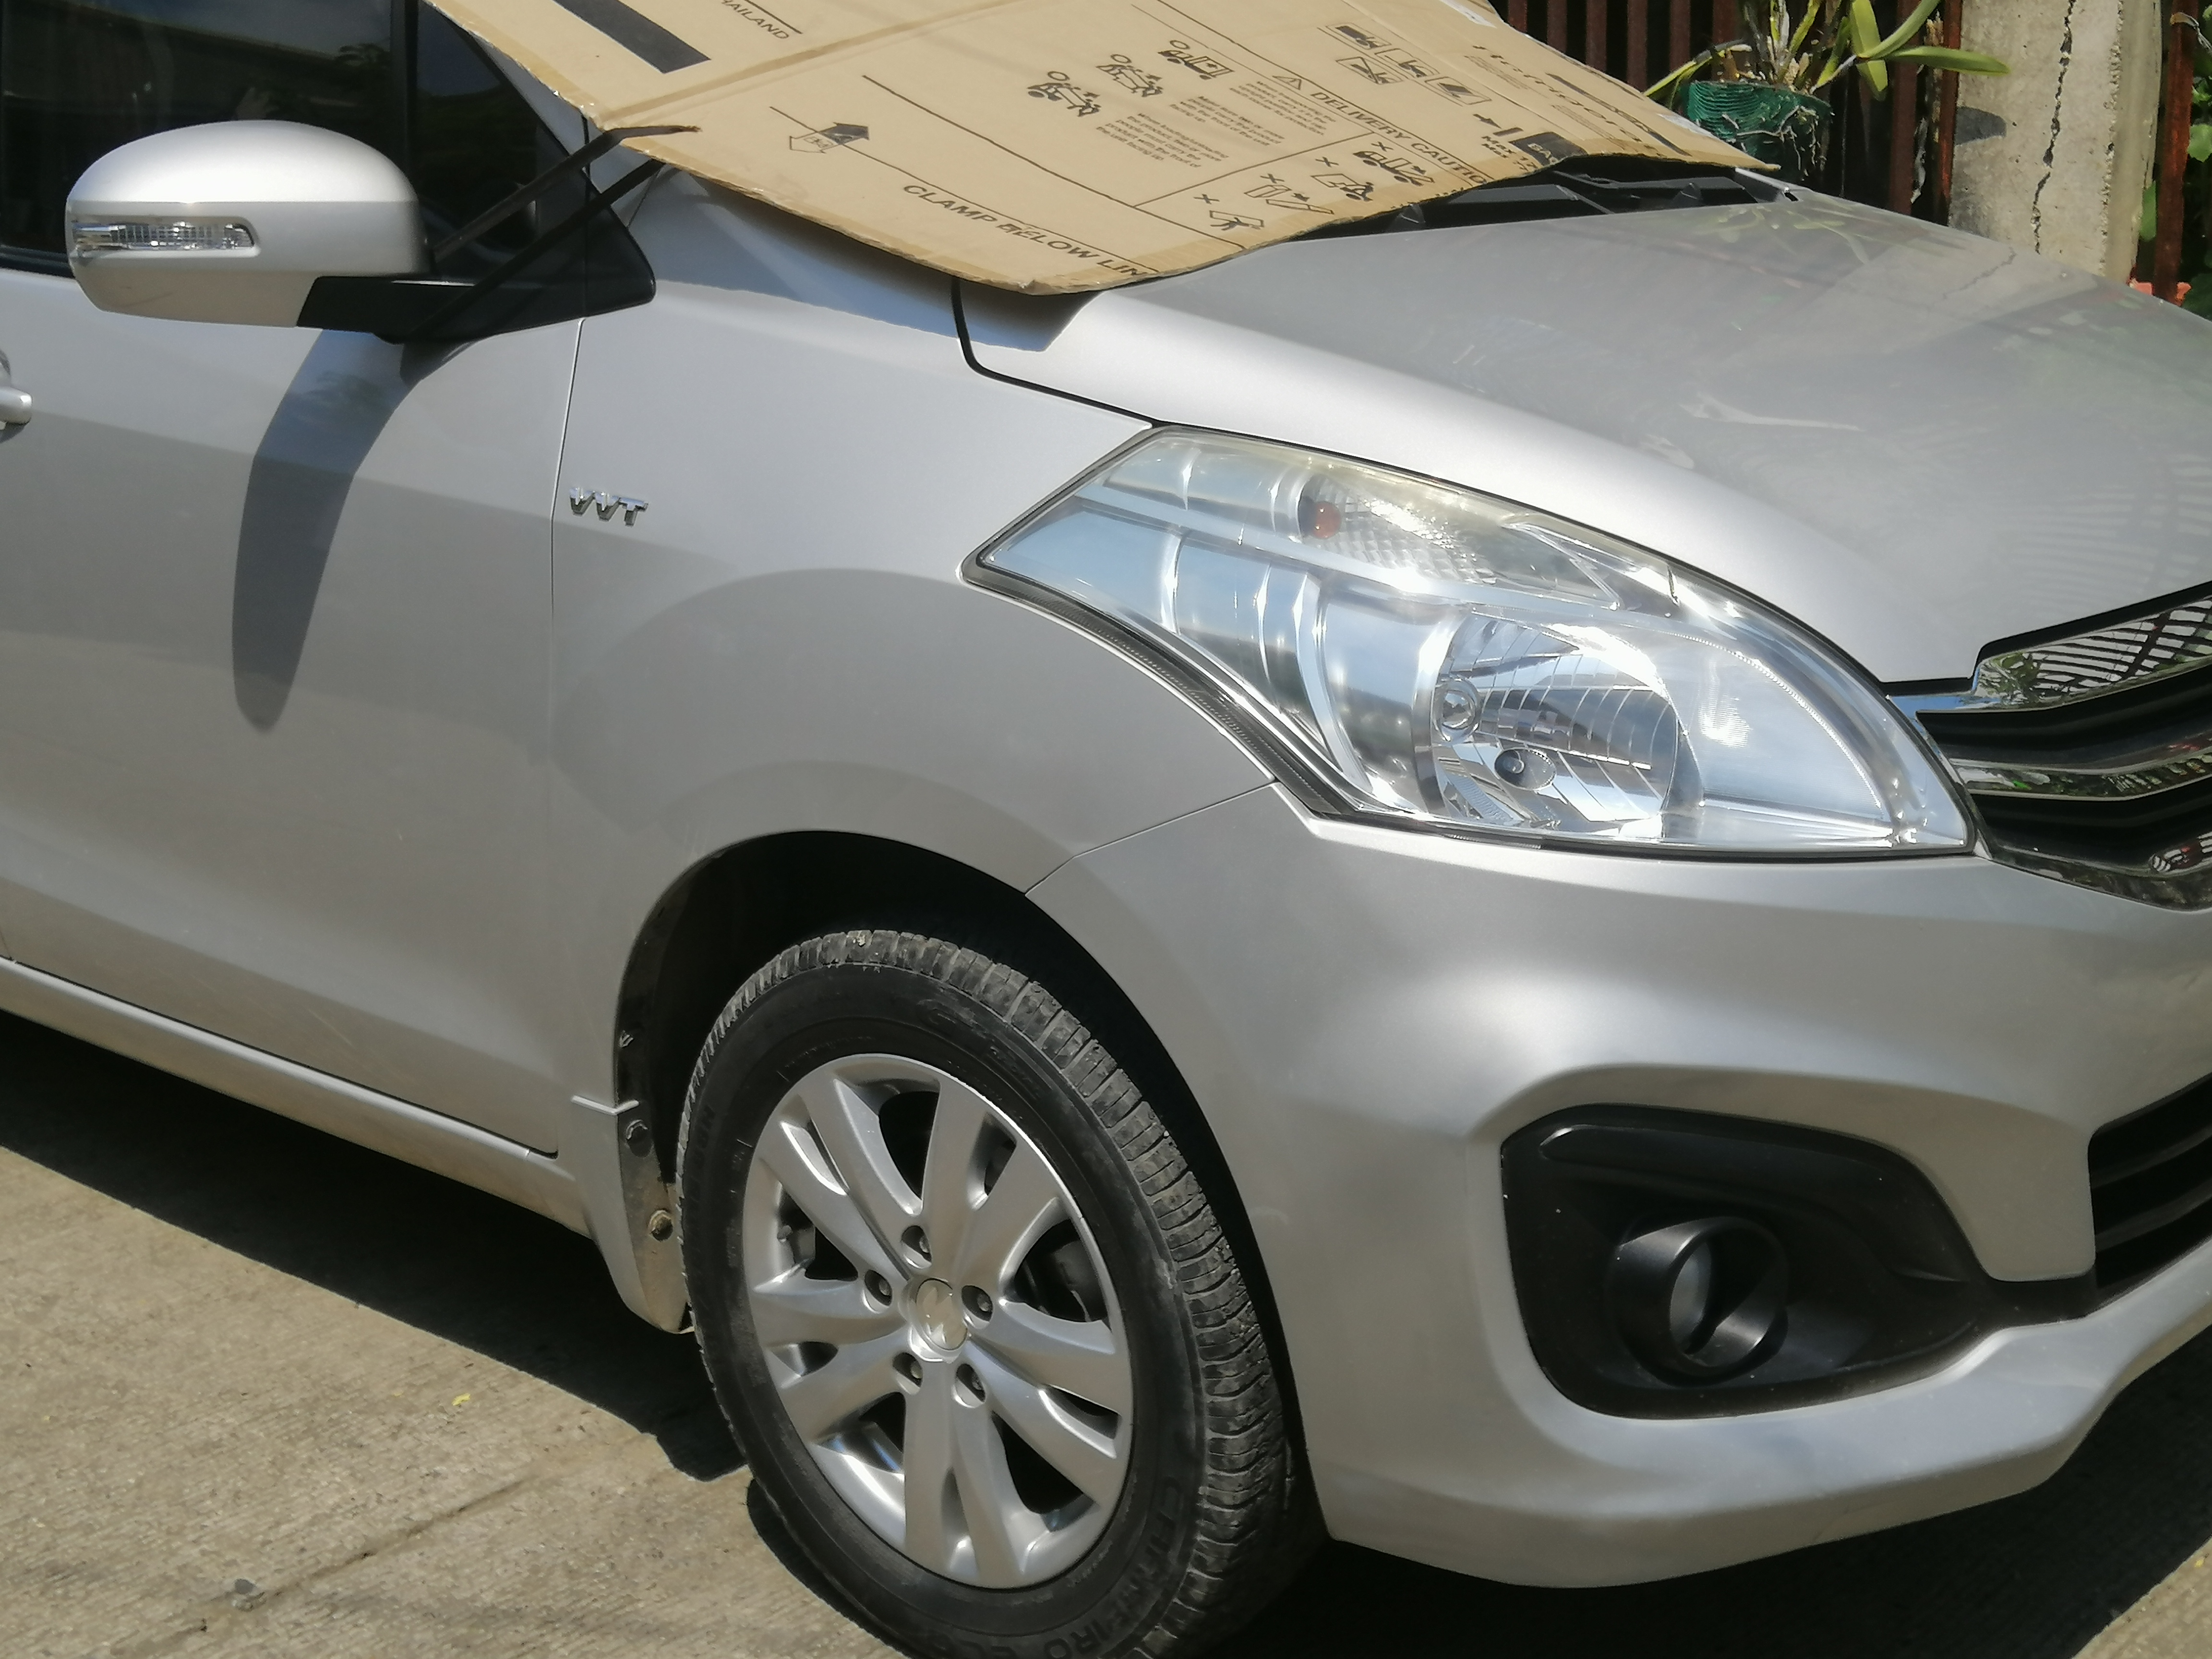car: (5, 7, 2212, 1659)
